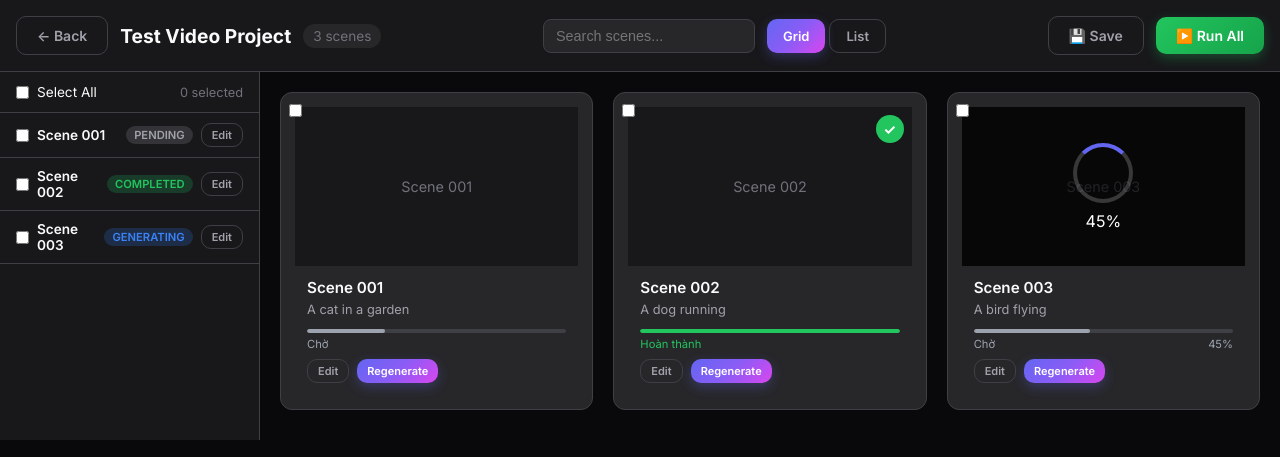
Test case: VideoProjectEditor › search filters scenes
Type "bird" into the field with placeholder "Search scenes..." at point(649, 36), box [543,18,755,52]
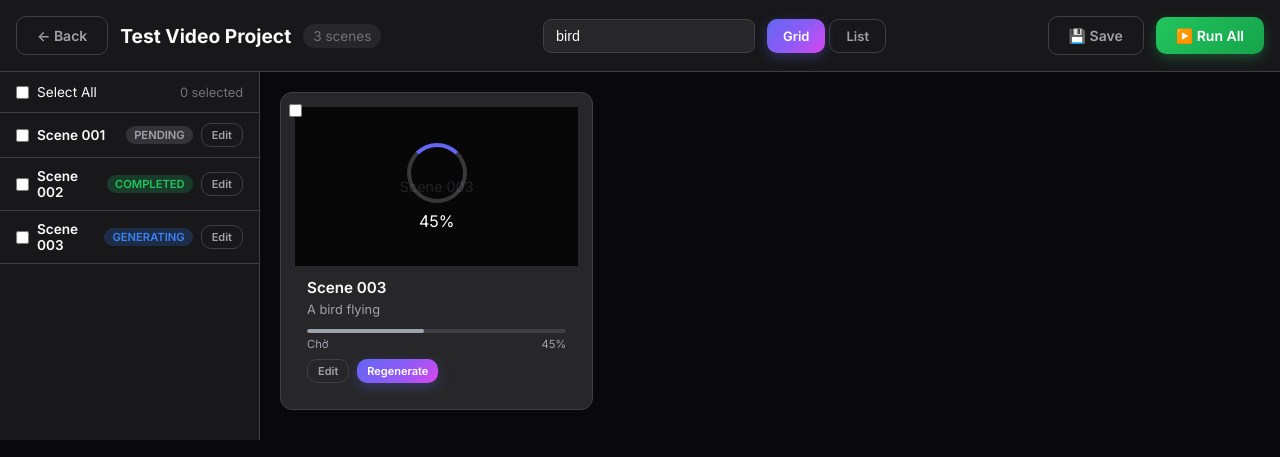
Now the text "A cat in a garden" is gone
